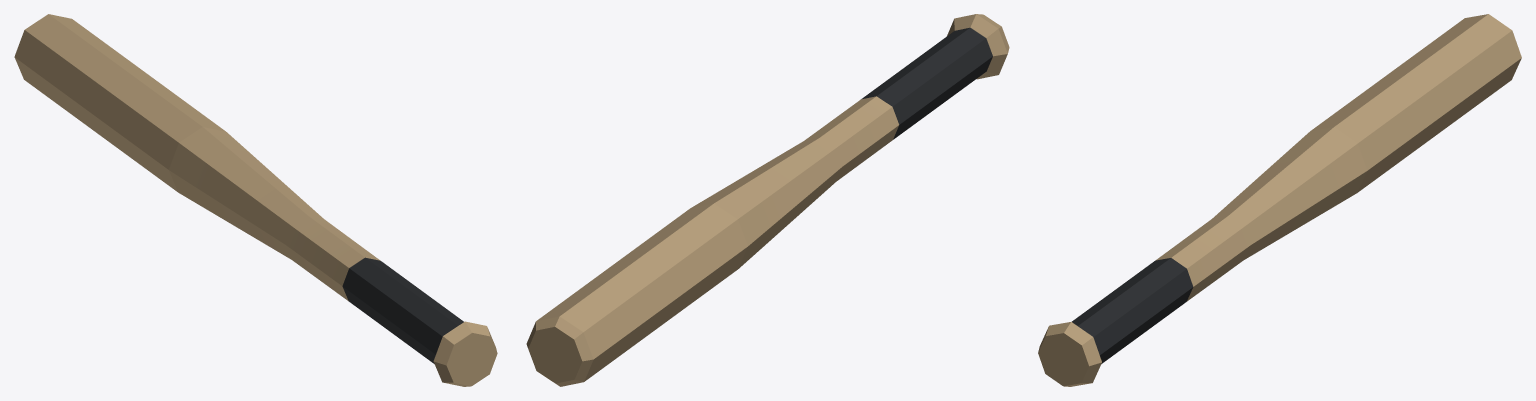
Rendered from bat.glb.
3 renders of one model, left to right at view 1: azimuth 30°, elevation 25°; view 2: azimuth 150°, elevation 25°; view 3: azimuth 330°, elevation 25°, orthographic.
Parts seen in each view (by area): view 1: bat; view 2: bat; view 3: bat.
Boxes of the visible parts, <box> form: bat: <box>14,14,497,386</box>; bat: <box>526,14,1009,386</box>; bat: <box>1038,14,1521,386</box>.
Bounding box in the file's own units: 0.1203 × 0.1203 × 1.33.
1 material, 1 textured.
